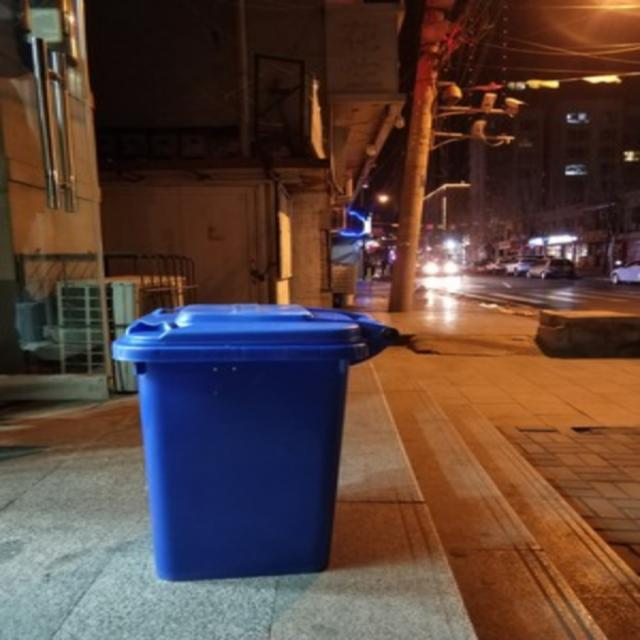ash bin: (104, 301, 397, 574)
